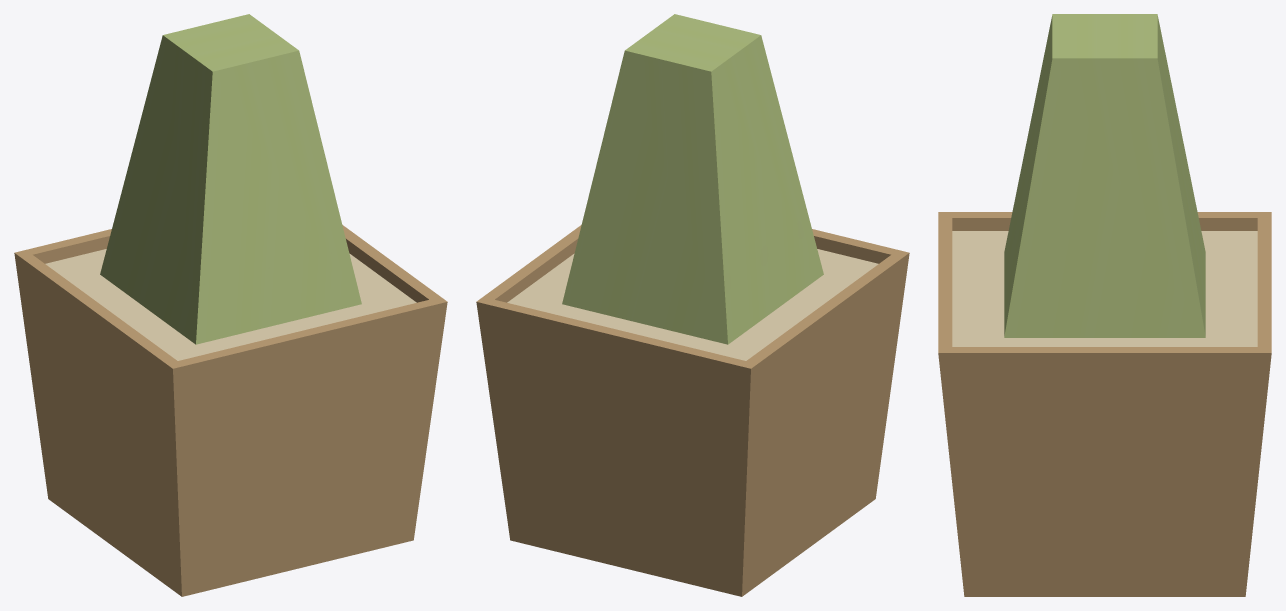
File: small_pot.fbx
3 renders of one model, left to right at view 1: azimuth 30°, elevation 25°; view 2: azimuth 150°, elevation 25°; view 3: azimuth 270°, elevation 25°, orthographic. The views are drawn at different scales.
Parts seen in each view (by area): view 1: Cube.001; view 2: Cube.001; view 3: Cube.001.
Part boxes in pixels (<box>): Cube.001: <box>14,14,447,596</box>; Cube.001: <box>476,14,909,596</box>; Cube.001: <box>938,14,1271,596</box>.
Bounding box in the file's own units: 119 × 197 × 119.
